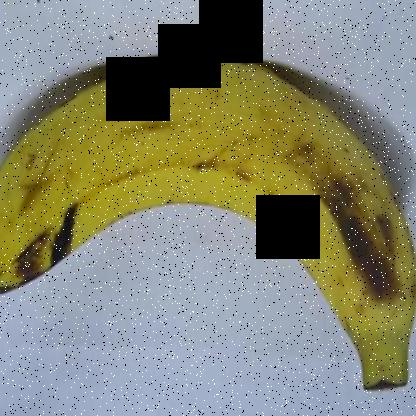ripe: (0, 40, 415, 400)
